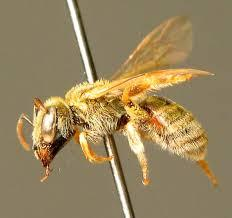Seladonia: (22, 7, 218, 209)
